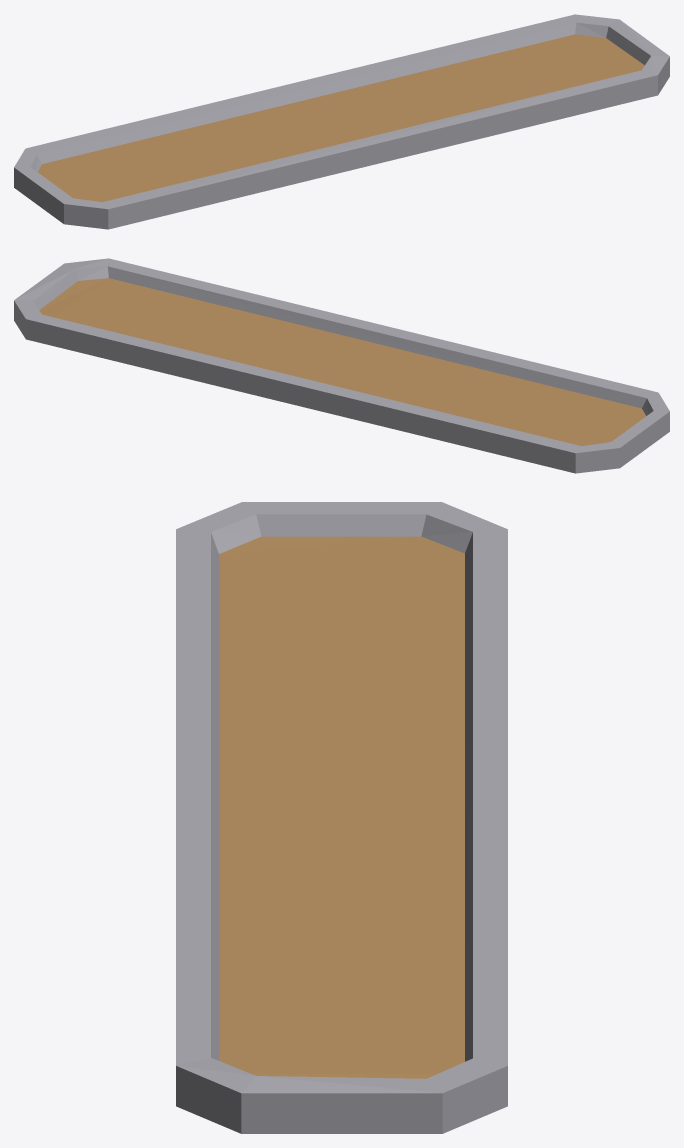
Rendered from trees_bed_3.fbx.
3 views of the same model, one above another, from view 1: azimuth 30°, elevation 25°; view 2: azimuth 150°, elevation 25°; view 3: azimuth 270°, elevation 25° (orthographic). The views are drawn at different scales.
Visible parts, largest first — view 1: trees_bed_3; view 2: trees_bed_3; view 3: trees_bed_3.
Part boxes in pixels (x1,y1,x2,y2): trees_bed_3: (14,14,669,229); trees_bed_3: (14,258,669,473); trees_bed_3: (176,502,507,1133).
Size of the model in its own units: 1465 by 50.06 by 348.
